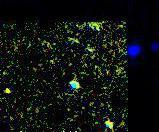star: (0, 76, 22, 106)
